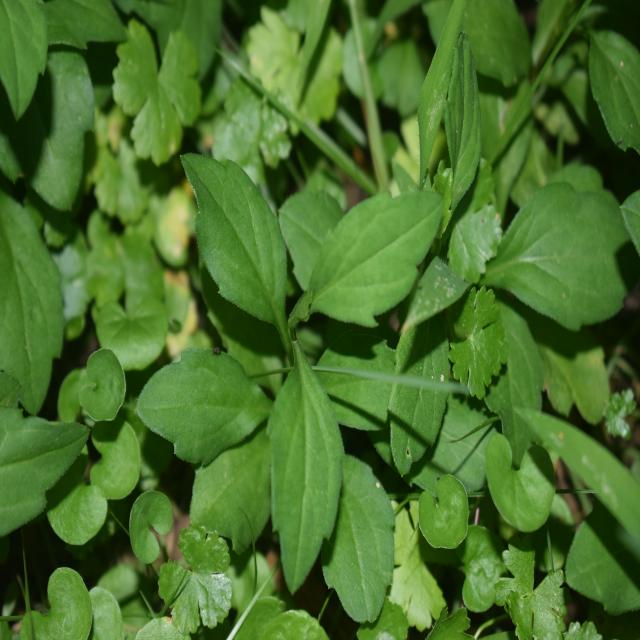Indian aster: (147, 152, 470, 612)
